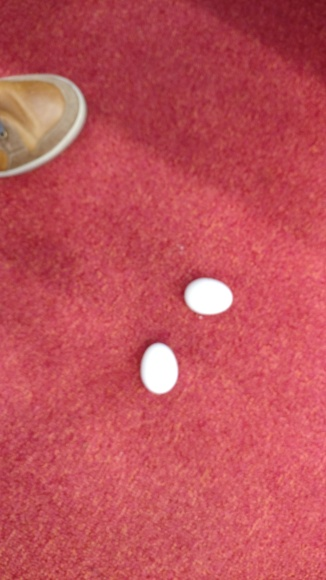egg: (140, 342, 179, 395), (184, 276, 234, 315)
